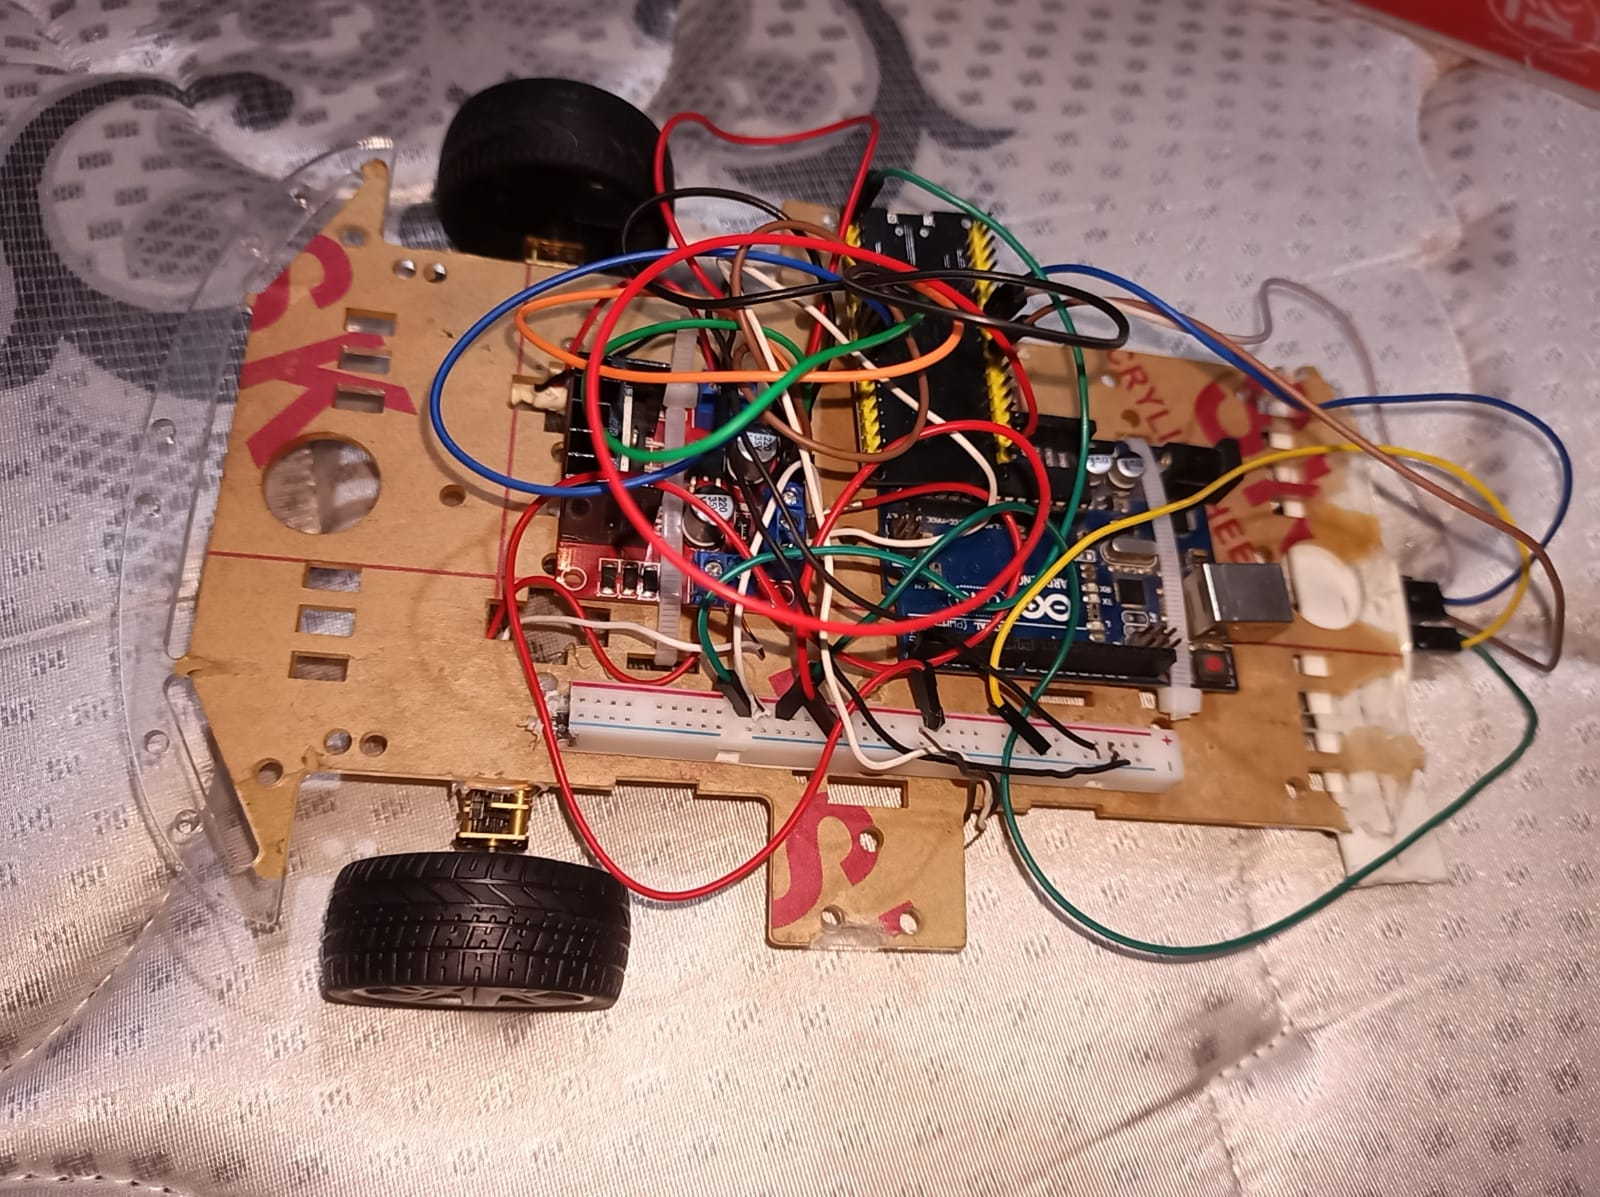Robot: (114, 79, 1466, 1013)
